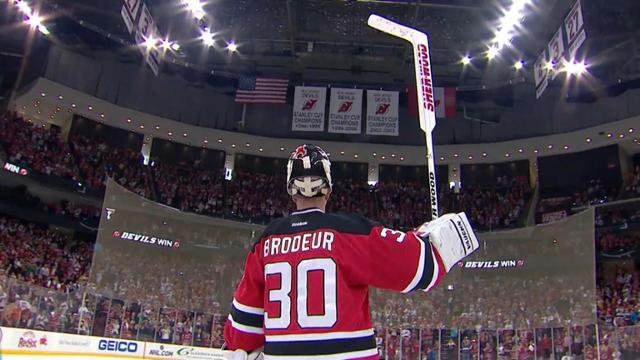geico: (96, 335, 142, 357)
